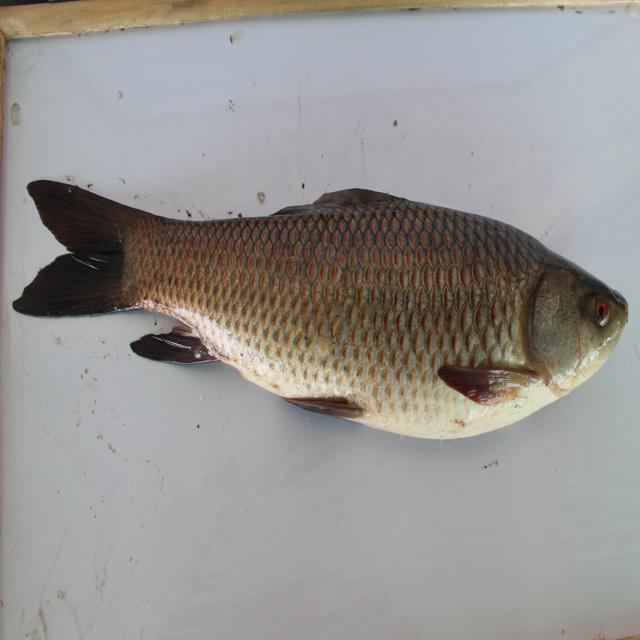Rohu: (21, 156, 635, 446)
